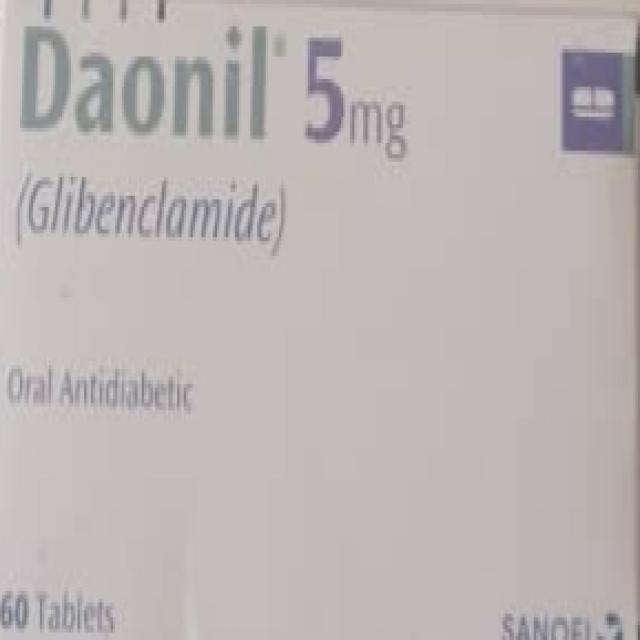drug-name: (19, 23, 271, 141)
